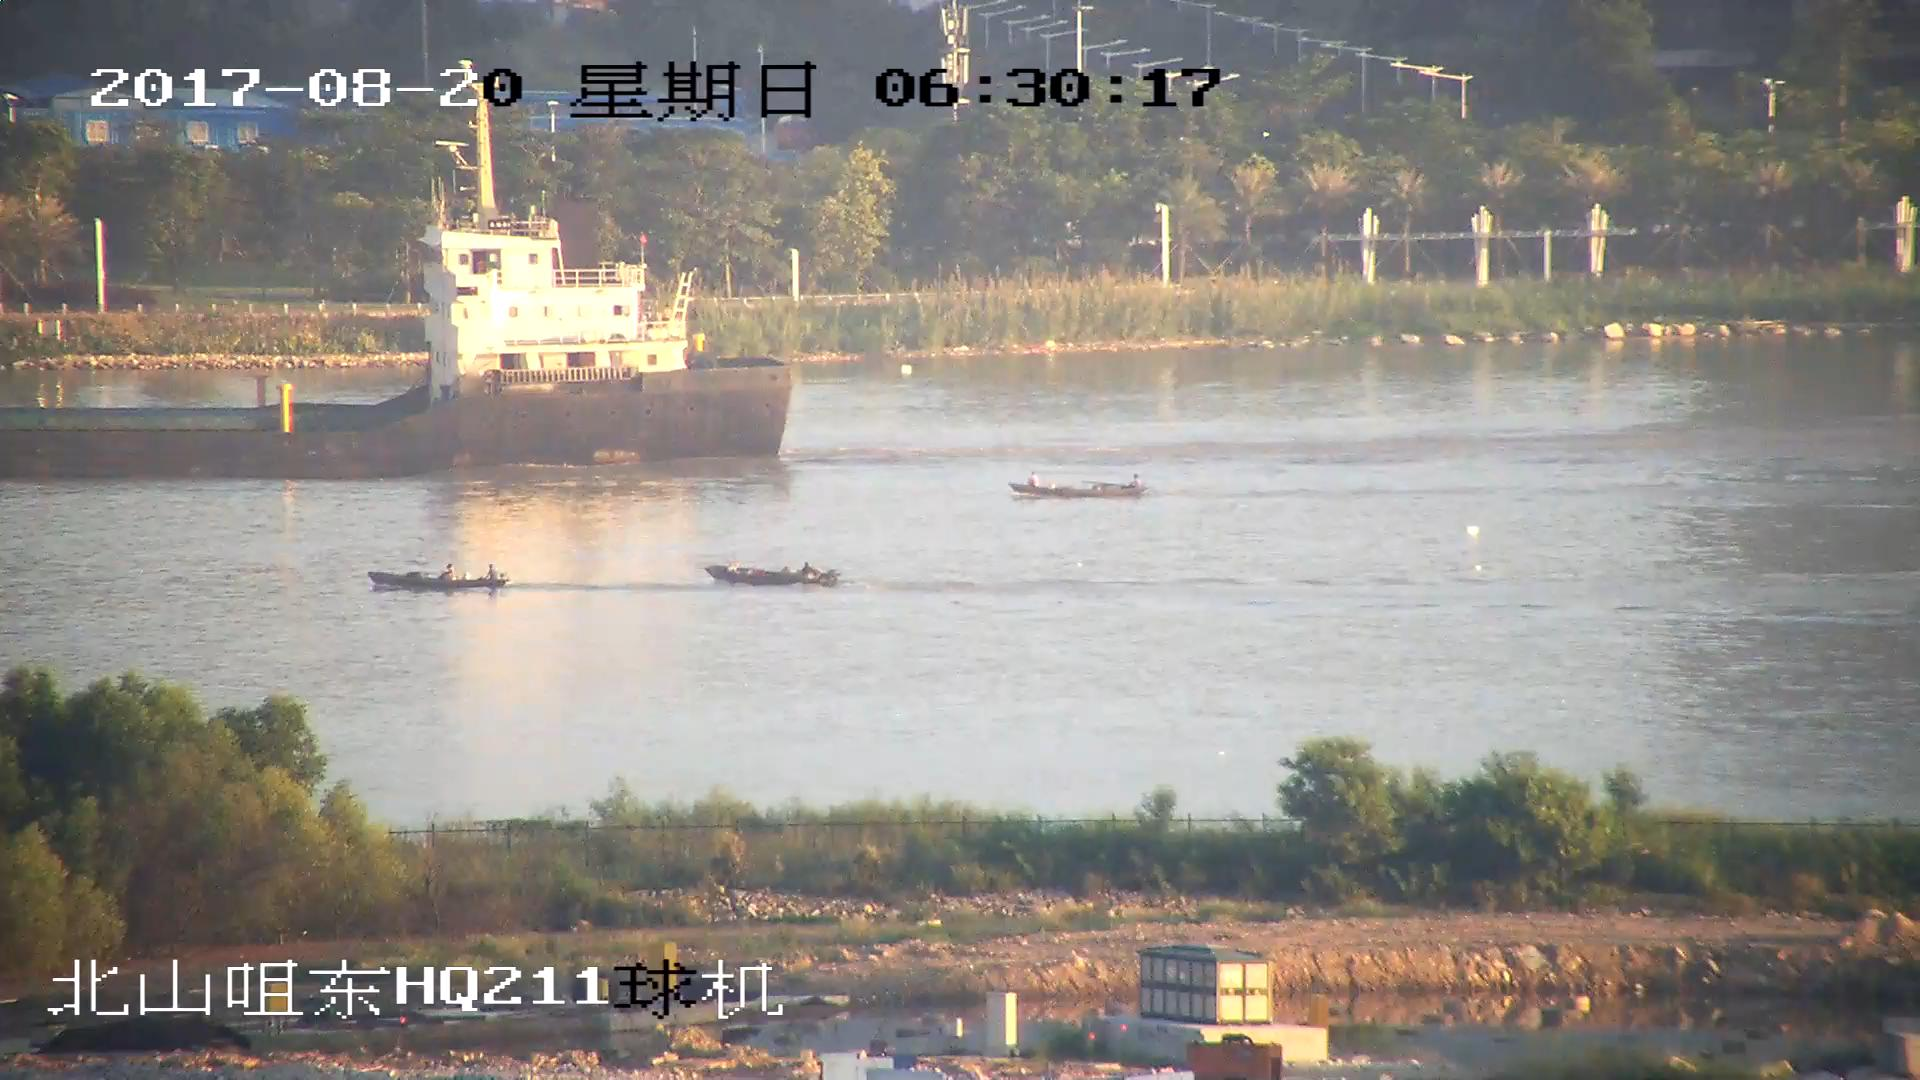fishing boat: (705, 554, 837, 592), (1009, 466, 1149, 498), (369, 564, 509, 594)
general cargo ship: (1, 126, 797, 474)
